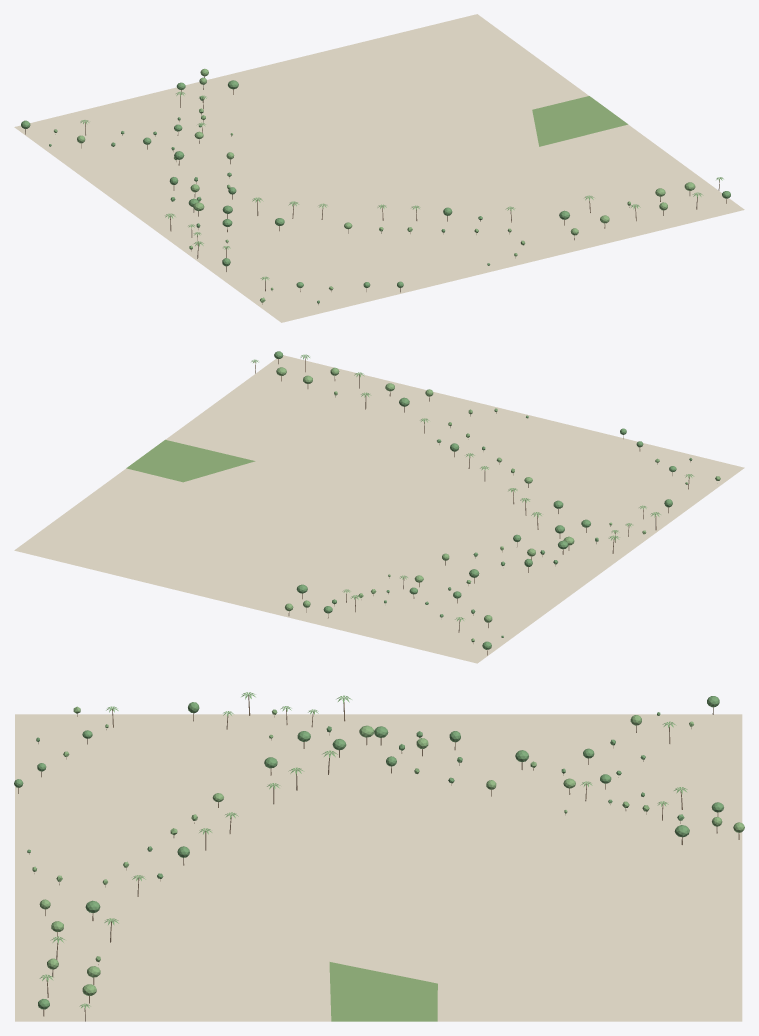
File: nature_-1_-4.glb
3 renders of one model, top to bottom at view 1: azimuth 30°, elevation 25°; view 2: azimuth 150°, elevation 25°; view 3: azimuth 270°, elevation 25°, orthographic. The views are drawn at different scales.
Parts seen in each view (by area): view 1: ground, grass, foliage_a, foliage_b, palm_leaf, trunk; view 2: ground, grass, foliage_a, foliage_b, trunk, palm_leaf; view 3: ground, grass, foliage_a, foliage_b, palm_leaf, trunk.
Boxes of the visible parts, x1,y1,x2,y2 form: ground: (14, 14, 744, 322); grass: (532, 96, 628, 146); foliage_a: (21, 80, 730, 303); foliage_b: (54, 68, 695, 302); palm_leaf: (80, 91, 723, 280); trunk: (25, 76, 726, 304); ground: (14, 355, 744, 663); grass: (126, 439, 255, 482); foliage_a: (274, 351, 692, 649); foliage_b: (276, 367, 720, 642); trunk: (254, 357, 690, 655); palm_leaf: (251, 354, 694, 621); ground: (15, 714, 742, 1021); grass: (329, 962, 437, 1021); foliage_a: (14, 696, 723, 1009); foliage_b: (32, 706, 744, 995); palm_leaf: (39, 692, 687, 1008); trunk: (18, 695, 739, 1021).
Size of the model in its own units: 255 by 8.76 by 251.
